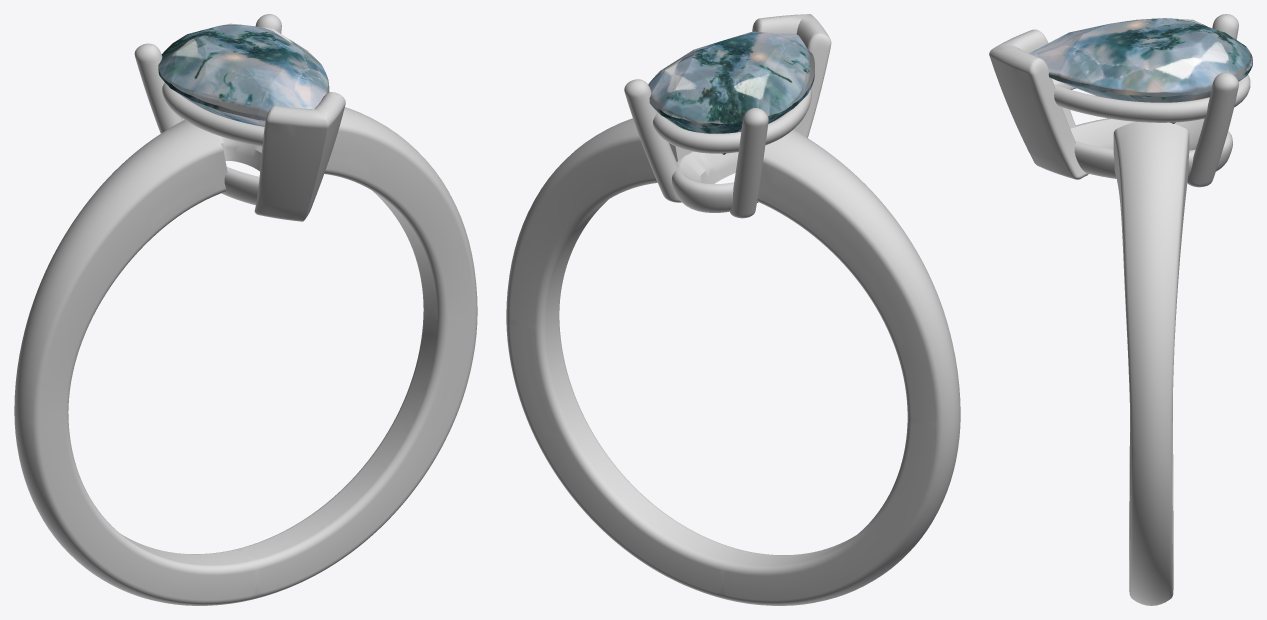
The model's file is mitchellRyan_webgi.glb.
The picture shows the model from 3 angles, left to right: view 1: azimuth 30°, elevation 25°; view 2: azimuth 150°, elevation 25°; view 3: azimuth 270°, elevation 25°; orthographic projection.
Parts seen in each view (by area): view 1: ryan_pt_for_3d_model, moss_agate_as_a_stone_for_3d_model; view 2: ryan_pt_for_3d_model, moss_agate_as_a_stone_for_3d_model; view 3: ryan_pt_for_3d_model, moss_agate_as_a_stone_for_3d_model.
Part boxes in pixels (x1,y1,x2,y2): ryan_pt_for_3d_model: [14, 14, 477, 605]; moss_agate_as_a_stone_for_3d_model: [158, 23, 329, 126]; ryan_pt_for_3d_model: [506, 14, 960, 605]; moss_agate_as_a_stone_for_3d_model: [648, 31, 814, 154]; ryan_pt_for_3d_model: [989, 14, 1250, 605]; moss_agate_as_a_stone_for_3d_model: [1029, 18, 1252, 123].
Bounding box in the file's own units: 2.49 × 2.87 × 1.25.
2 materials, 1 textured.
